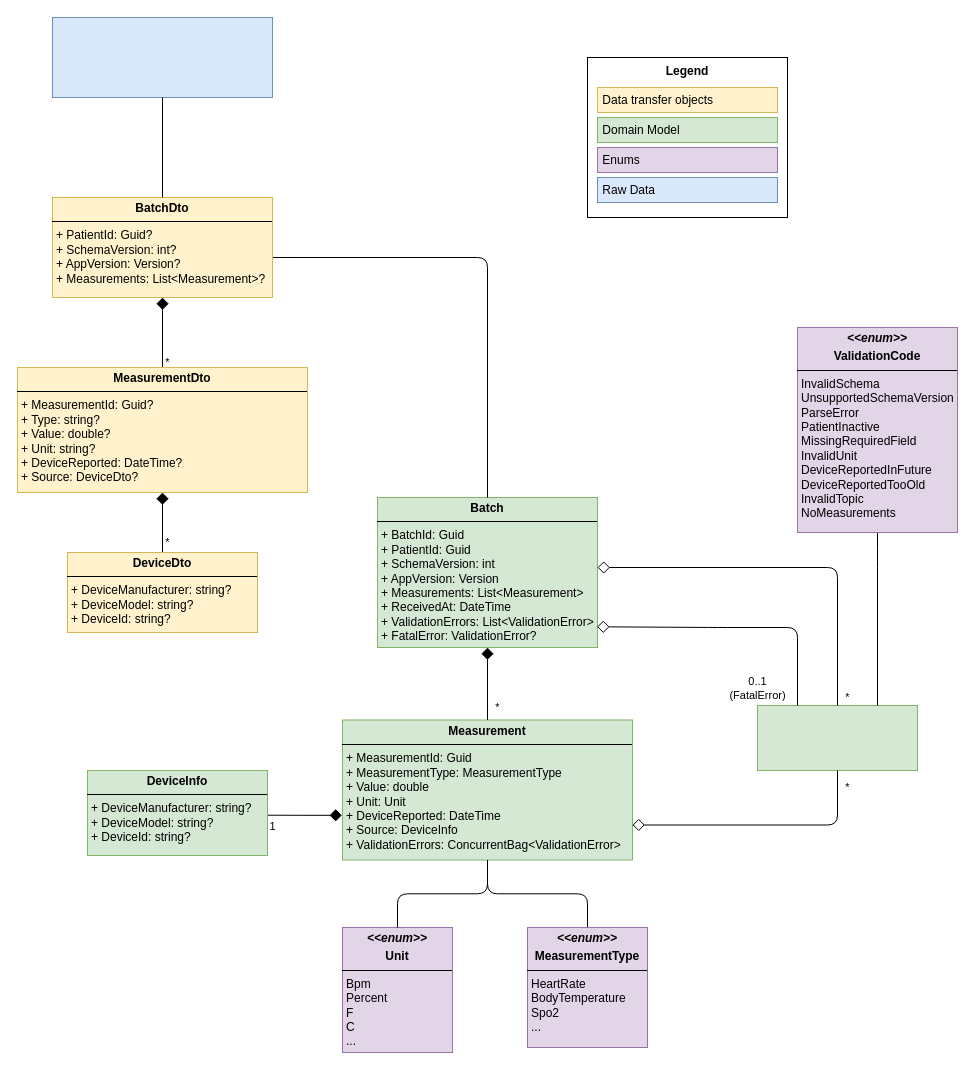
This 975x1070 diagram has some shape labels left out. Here are the shapes that lost their labels. From the top down, the centre of each, then its label:
(162,57): RawBatch + Topic: string + Payload: string + ReceivedAt: DateTime
(837,737): ValidationError + Message: string + Code: ValidationCode
